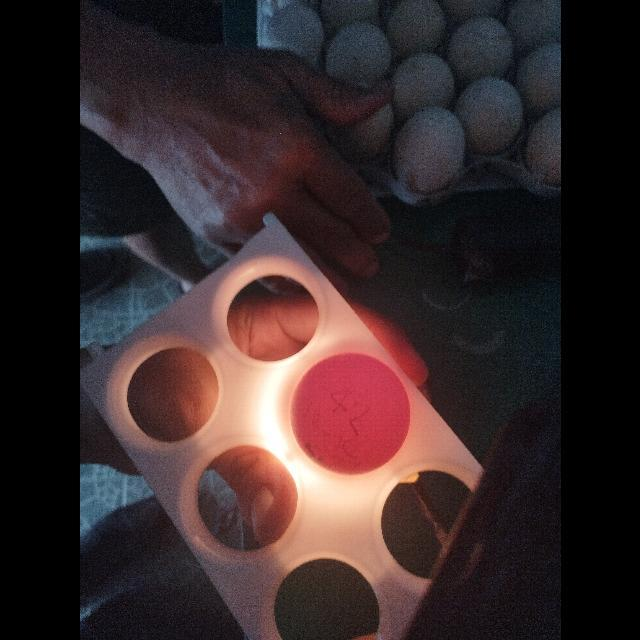A - Good: (289, 351, 411, 477)
